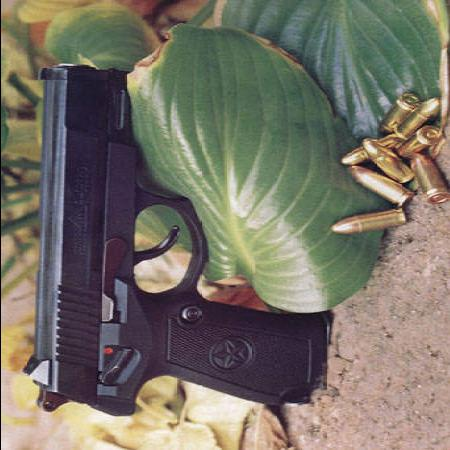Pistol: (20, 62, 330, 416)
